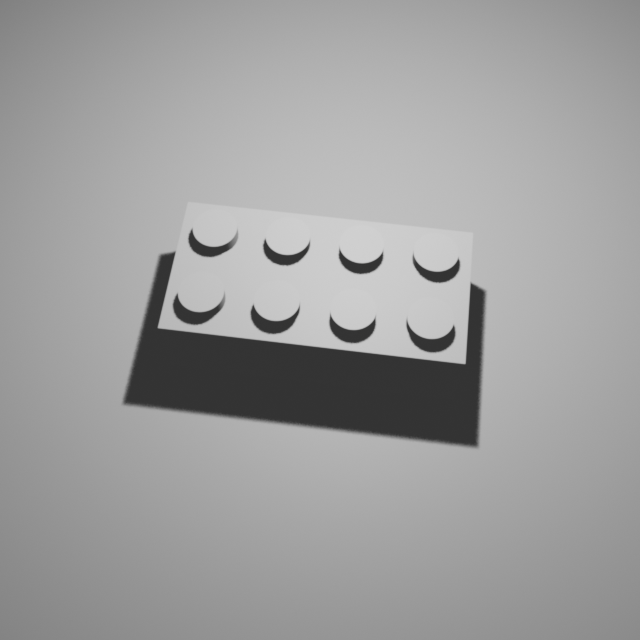lego_2x4: (155, 194, 475, 399)
